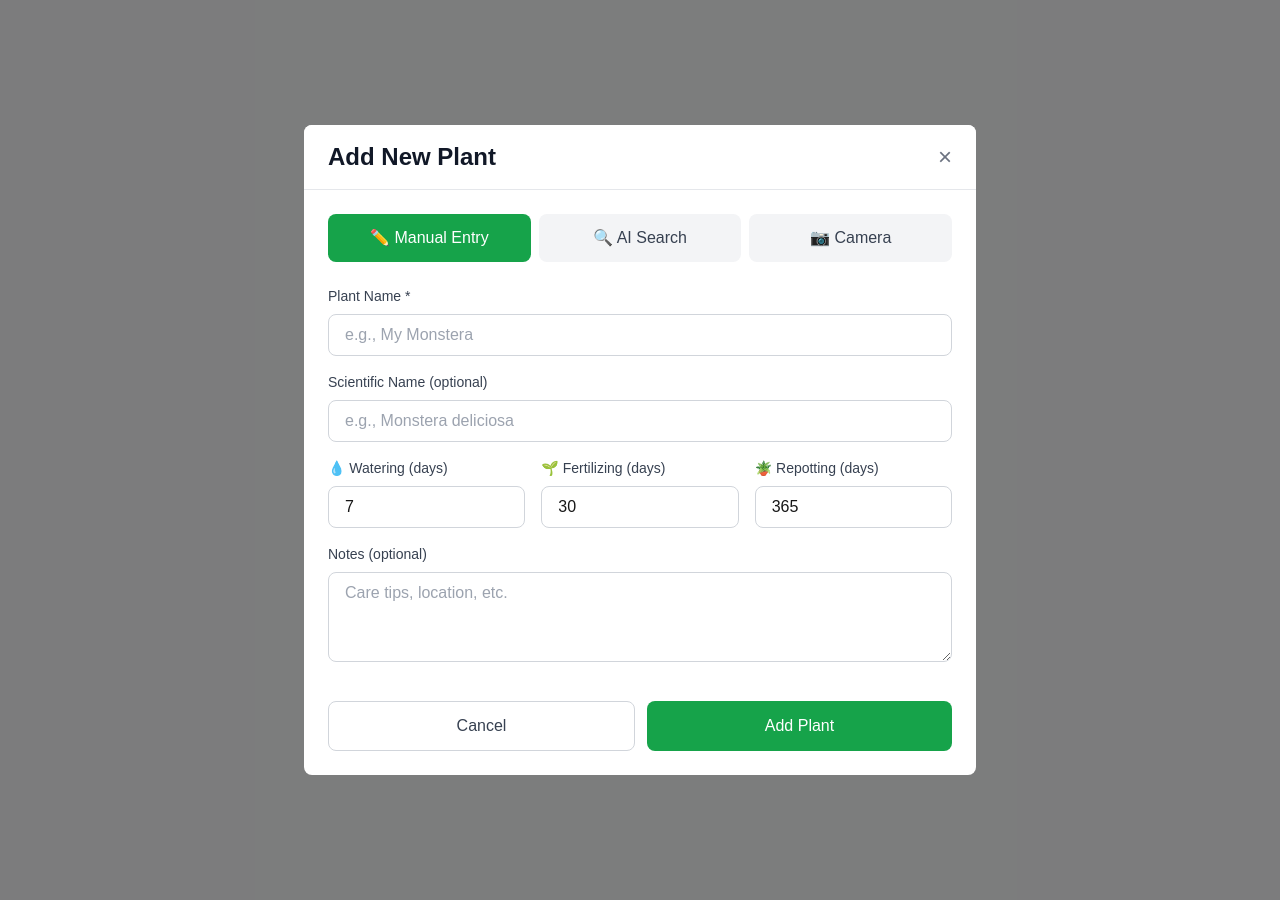
Test case: AddPlantModal › requires a name before submitting the manual form
Click the button "Add Plant" at (800, 726), box [647,701,952,751]
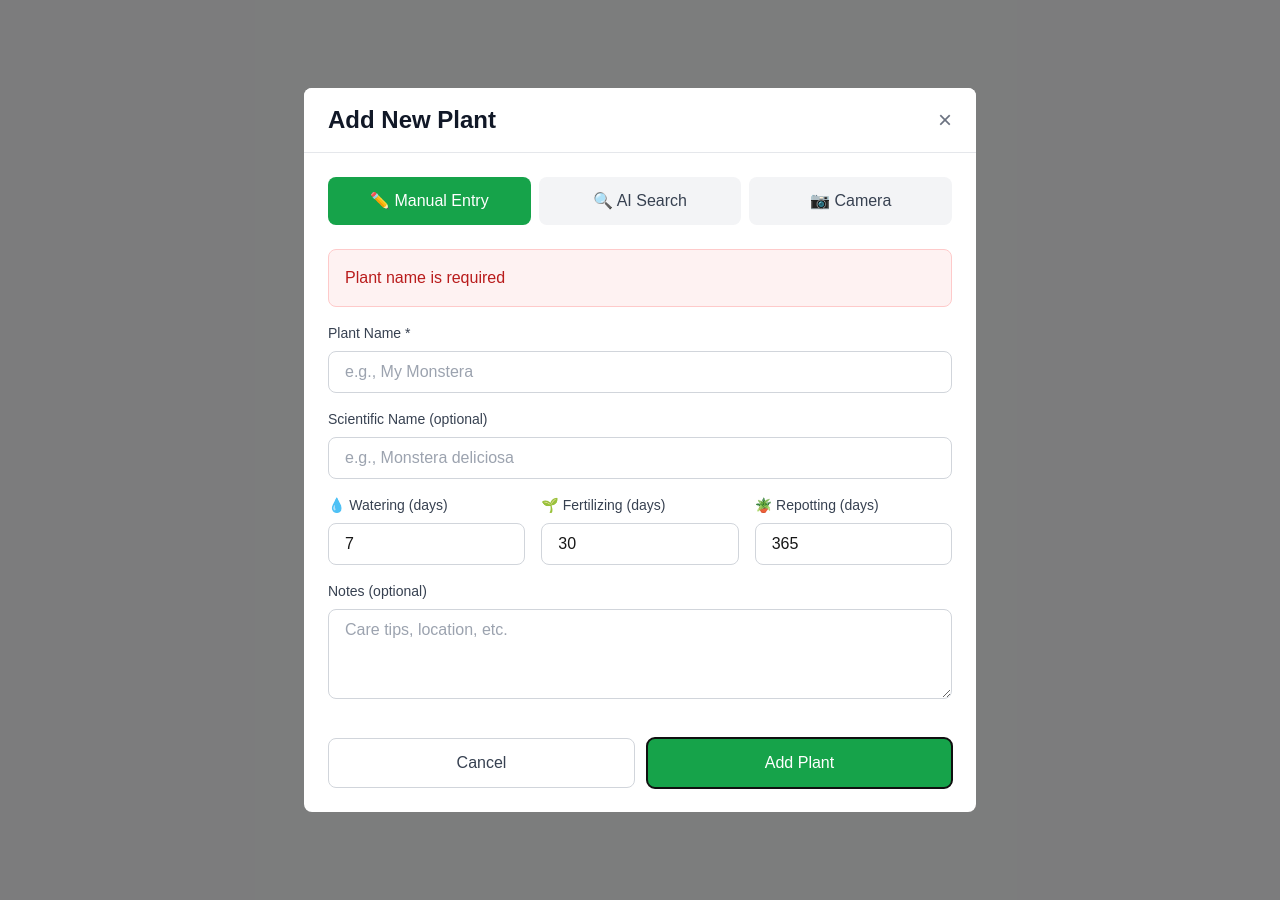
Expected: the text "Plant name is required" is shown, [328,249,952,307]
